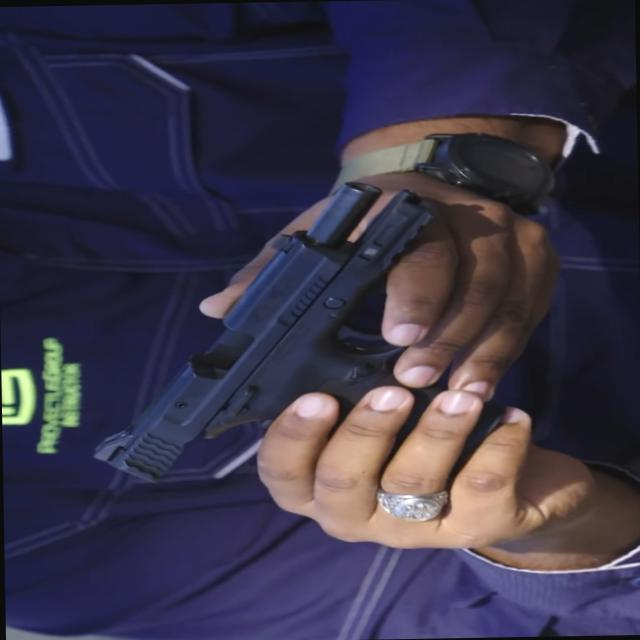handgun: (72, 178, 534, 496)
